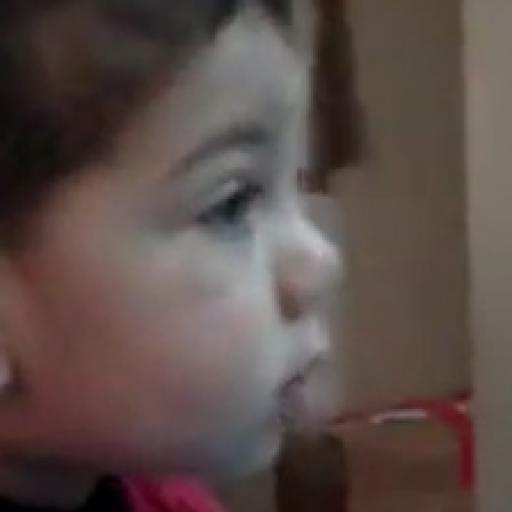Autism: (34, 34, 326, 500)
